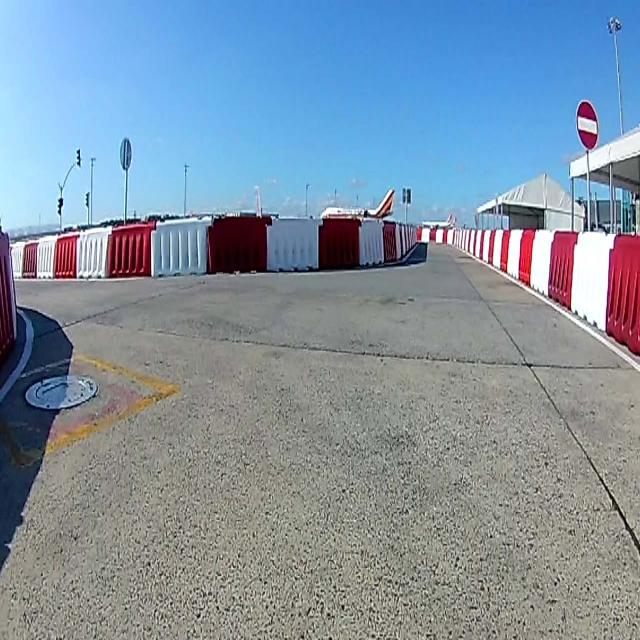girisyok: (576, 98, 598, 150)
